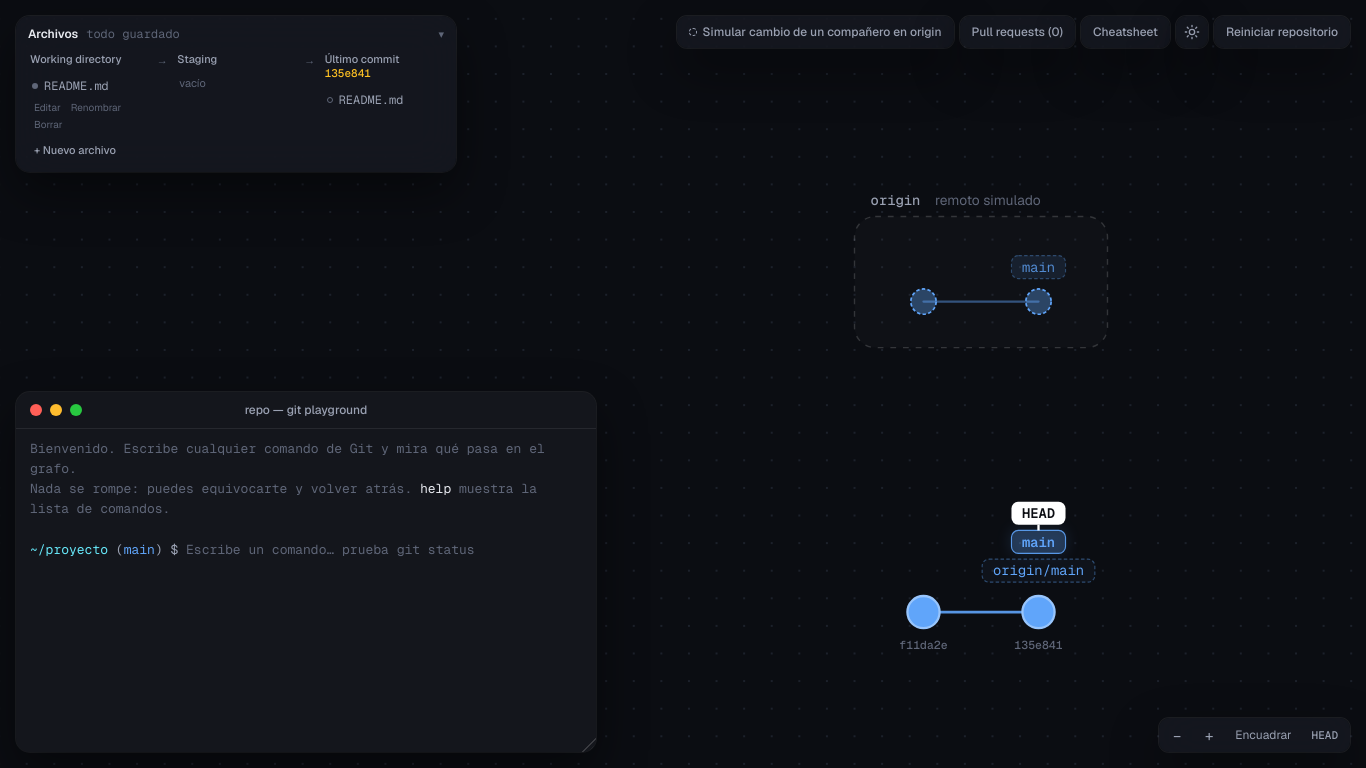
PlaygroundShell › Ctrl+L clears the terminal output but leaves pending input untouched
In the field labelled "comando": (384, 550) 186,540 -> 582,560, type "git lo"
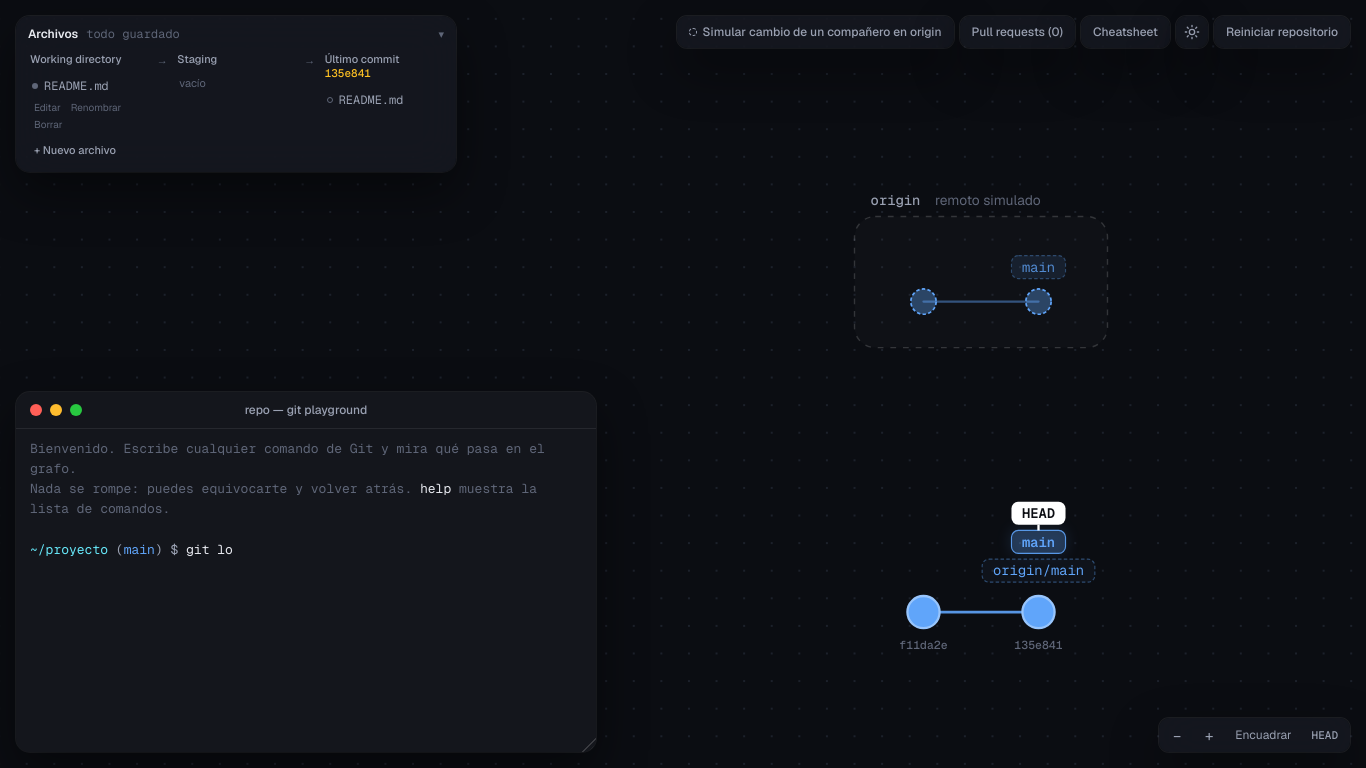
Type keys "{Control>}l{/Control}"
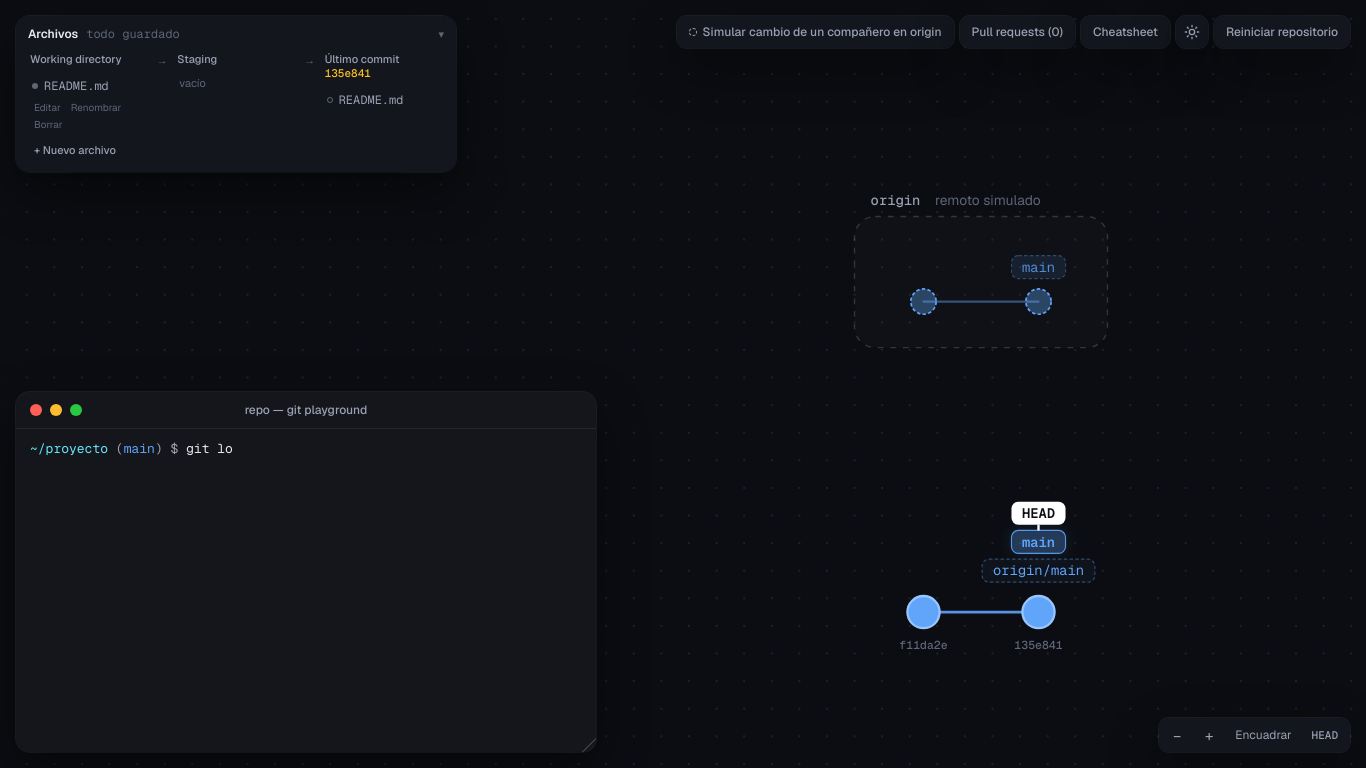
Now the text "Bienvenido" is gone
